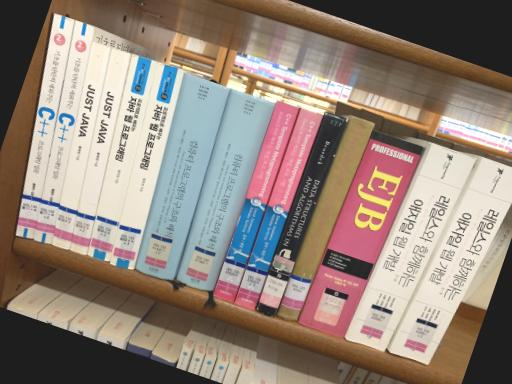book-spine: (345, 142, 477, 352), (297, 131, 423, 338), (388, 156, 512, 365), (276, 116, 375, 321), (176, 89, 275, 290), (134, 74, 230, 279), (255, 111, 349, 316), (233, 108, 323, 311), (213, 100, 299, 302), (109, 62, 184, 269), (88, 55, 157, 261), (34, 20, 93, 243), (16, 13, 74, 239), (69, 48, 131, 254), (52, 42, 111, 249)
